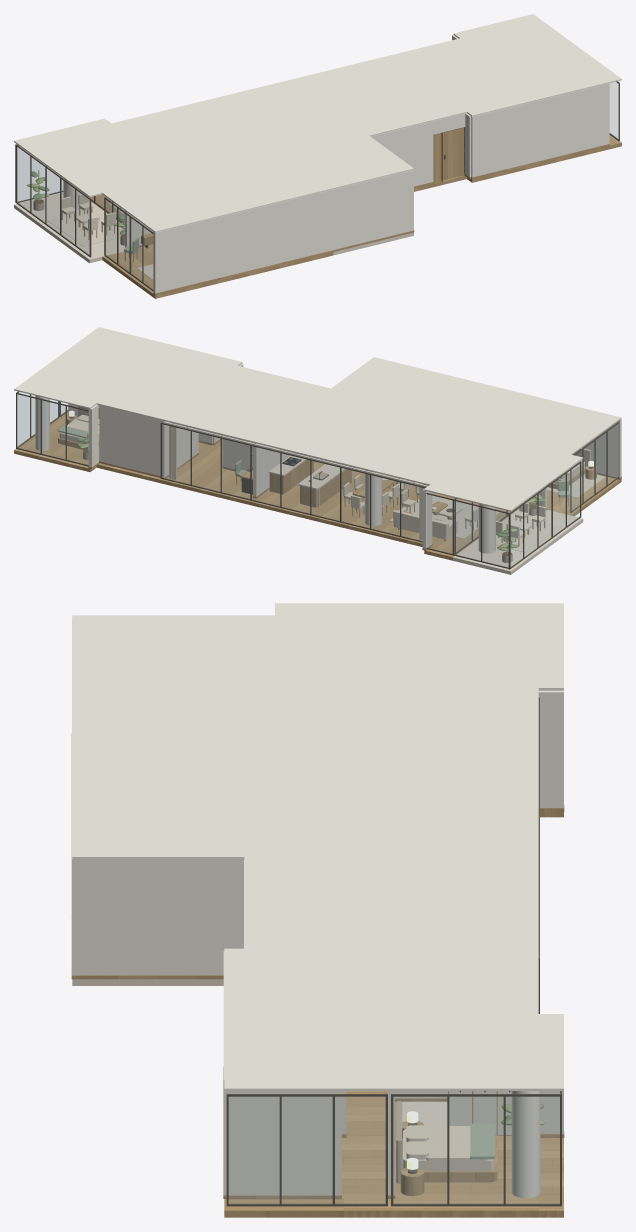
Rendered from apartment.glb.
The picture shows the model from 3 angles, top to bottom: view 1: azimuth 30°, elevation 25°; view 2: azimuth 150°, elevation 25°; view 3: azimuth 270°, elevation 25°; orthographic projection. The views are drawn at different scales.
Parts seen in each view (by area): view 1: Main open-plan ceiling, South master boundary · upper, Master suite ceiling, South bedroom boundary · upper, Bedroom2 ceiling, Bedroom3 ceiling, Wintergarden ceiling, Master ensuite ceiling, South master boundary · cutaway, Wintergarden · limestone floor, South kitchen services · upper, Master suite · oak floor (+21 smaller); view 2: Main open-plan ceiling, Master suite ceiling, Living dining kitchen · oak floor, Bedroom2 ceiling, Wintergarden ceiling, Bedroom3 ceiling, Master ensuite ceiling, Bathroom2 north wall · upper, Wintergarden · limestone floor, Bedroom wing corridor ceiling, North panoramic glazing glazing 2, North panoramic glazing glazing 1 (+48 smaller); view 3: Main open-plan ceiling, Master suite ceiling, Bedroom2 ceiling, Bedroom3 ceiling, Wintergarden ceiling, Master ensuite ceiling, Master ensuite exterior · upper, Bedroom3 east return · upper, Bedroom wing corridor ceiling, Bedroom2 east glazing 1, Bedroom2 east glazing 0, Bedroom2 east glazing 2 (+20 smaller).
Part boxes in pixels (x1,y1,x2,y2): Main open-plan ceiling: (81,55,458,180); South master boundary · upper: (153,170,413,281); Master suite ceiling: (102,149,333,232); South bedroom boundary · upper: (471,83,609,165); Bedroom2 ceiling: (390,19,578,84); Bedroom3 ceiling: (441,56,621,116); Wintergarden ceiling: (14,126,149,197); Master ensuite ceiling: (281,130,413,189); South master boundary · cutaway: (153,218,413,293); Wintergarden · limestone floor: (14,192,149,263); South kitchen services · upper: (370,121,433,174); Master suite · oak floor: (102,244,333,298); Main open-plan ceiling: (163,371,524,491); Master suite ceiling: (401,376,621,454); Living dining kitchen · oak floor: (163,439,519,552); Bedroom2 ceiling: (20,357,201,420); Wintergarden ceiling: (453,443,583,511); Bedroom3 ceiling: (69,327,242,383); Master ensuite ceiling: (323,357,450,412); Bathroom2 north wall · upper: (99,405,160,464); Wintergarden · limestone floor: (453,509,583,574); Bedroom wing corridor ceiling: (58,349,212,391); North panoramic glazing glazing 2: (341,468,369,527); North panoramic glazing glazing 1: (371,476,399,535); Main open-plan ceiling: (275,660,538,948); Master suite ceiling: (72,615,274,781); Bedroom2 ceiling: (387,948,538,1090); Bedroom3 ceiling: (224,948,343,1090); Wintergarden ceiling: (275,603,563,659); Master ensuite ceiling: (72,781,274,859); Master ensuite exterior · upper: (79,859,243,952); Bedroom3 east return · upper: (227,1091,341,1172); Bedroom wing corridor ceiling: (343,948,386,1090); Bedroom2 east glazing 1: (449,1097,503,1203); Bedroom2 east glazing 0: (506,1097,559,1203); Bedroom2 east glazing 2: (393,1097,446,1203).
Bounding box in the file's own units: 24.35 × 3.02 × 10.46.
Materials: 26 (3 with a texture image).
